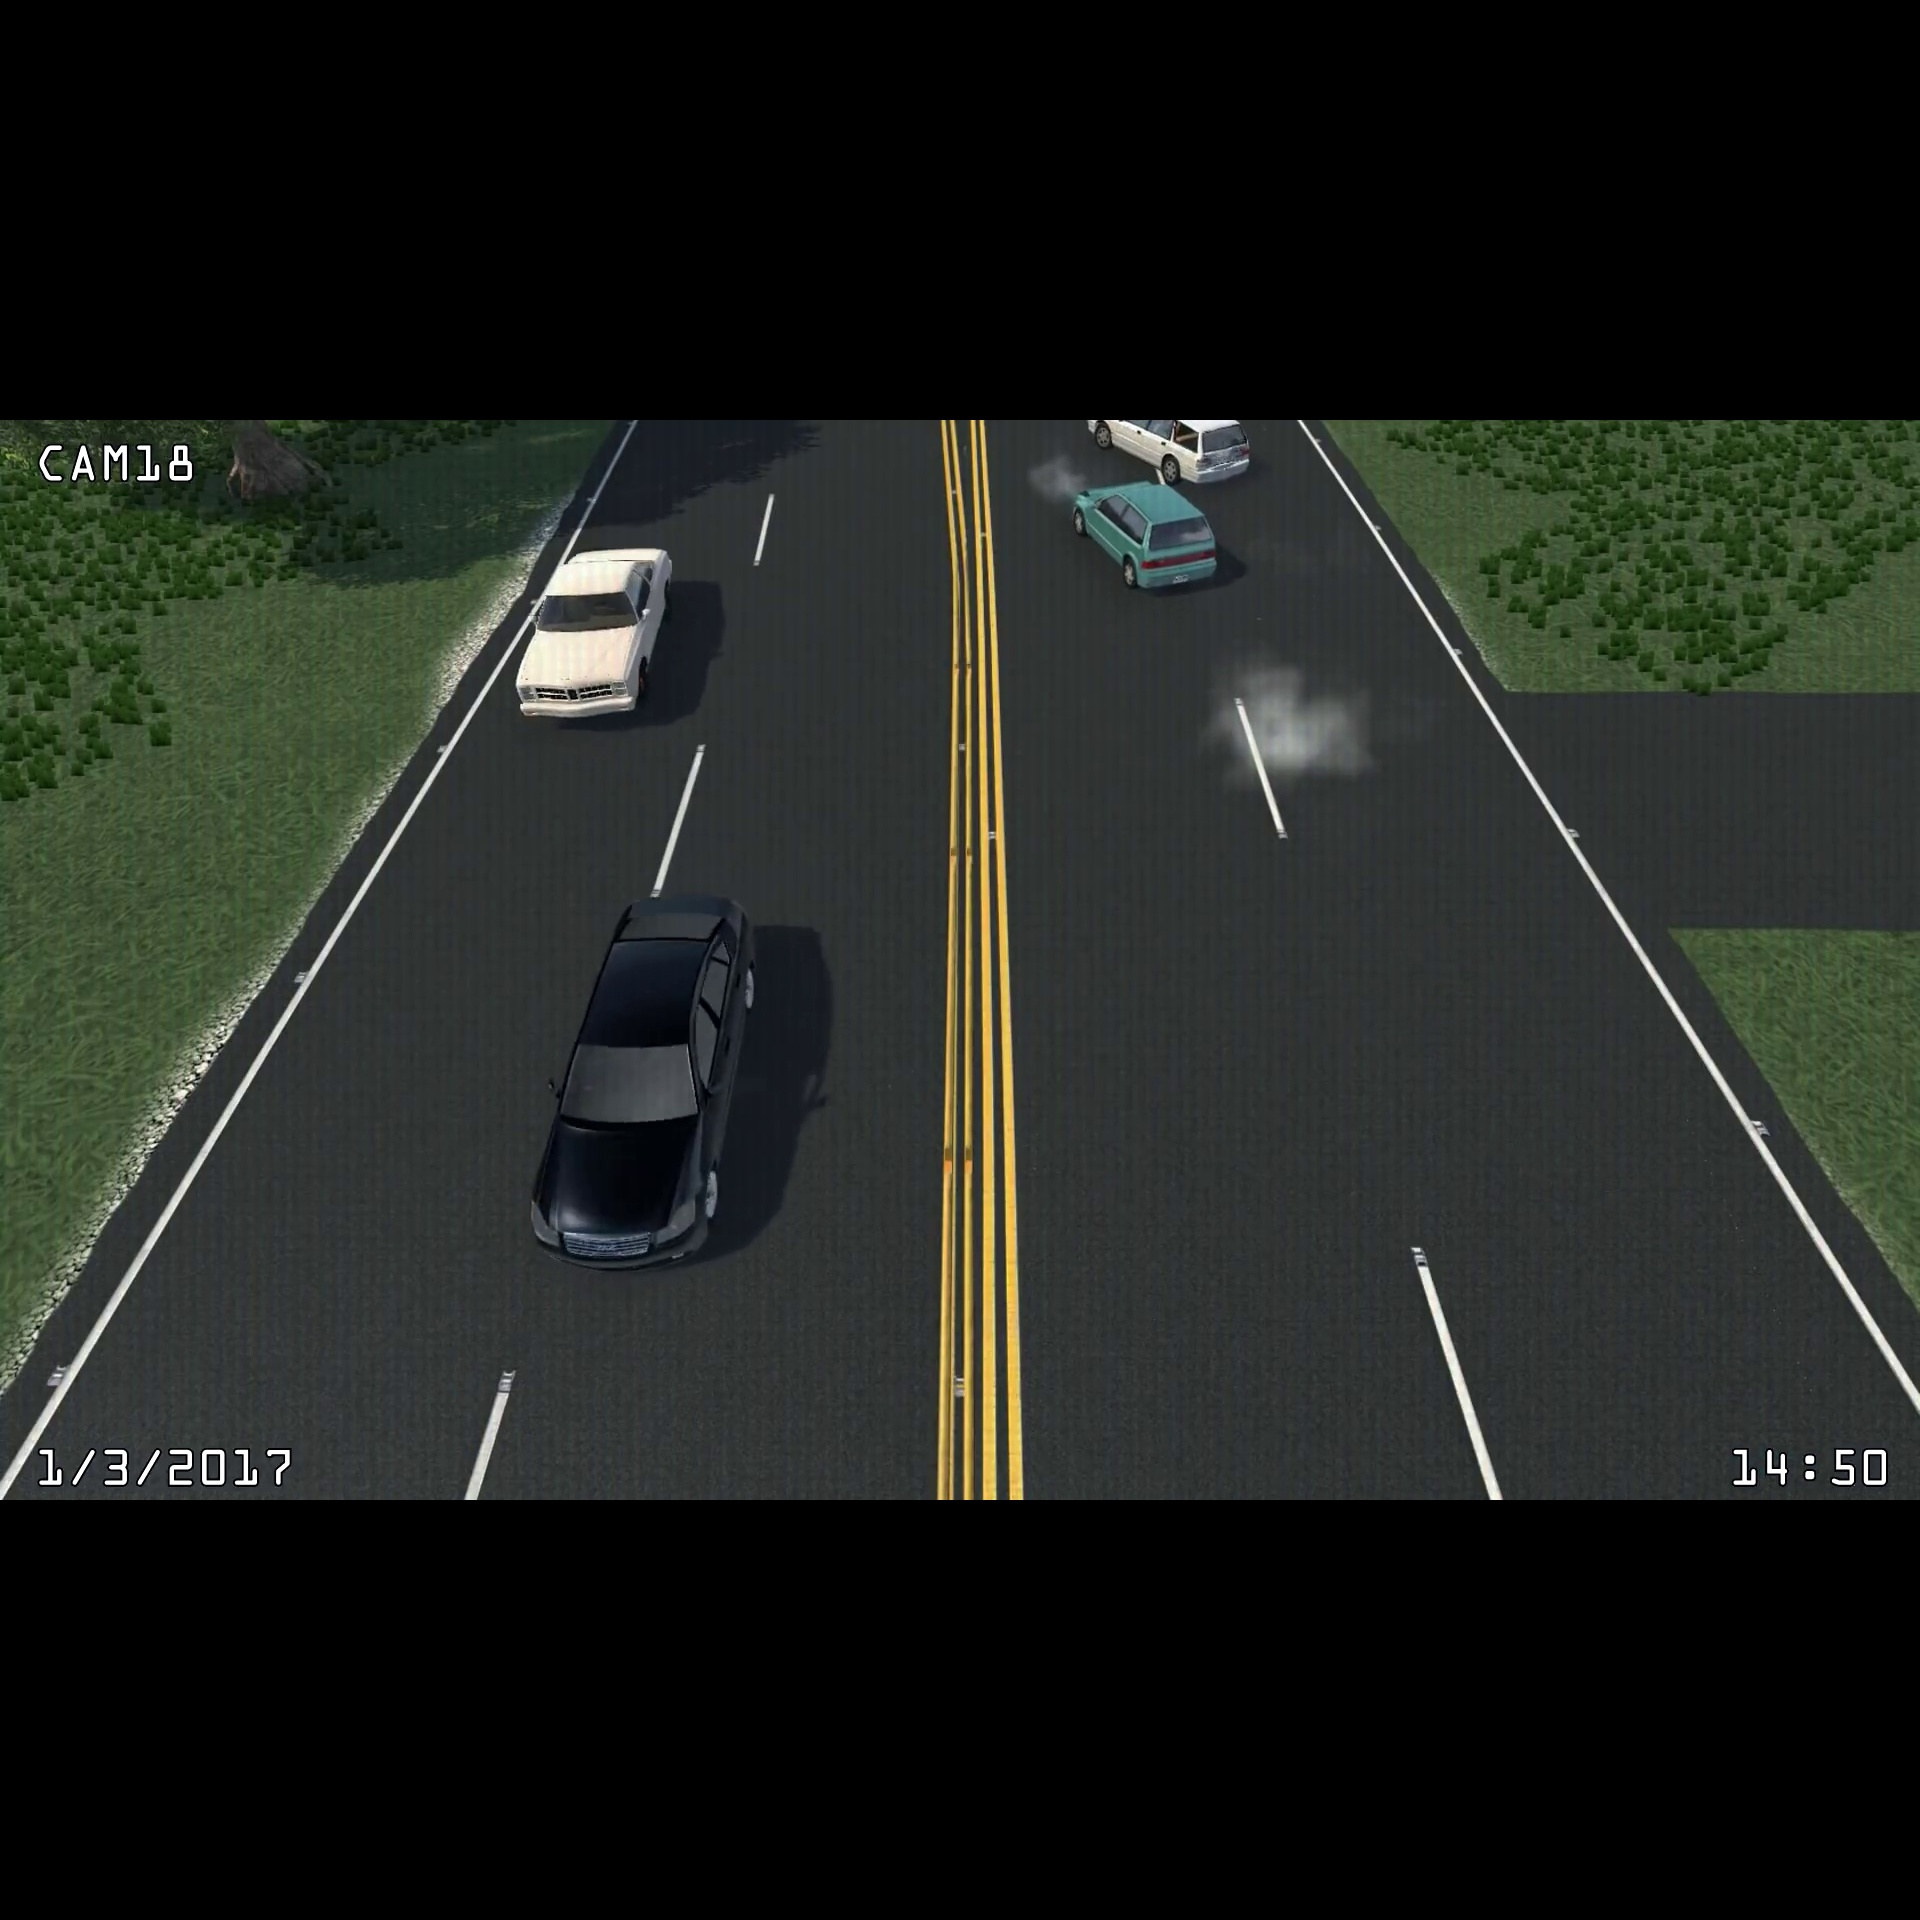vehicle: (515, 879, 770, 1284), (506, 536, 689, 730), (1069, 476, 1224, 600), (1076, 418, 1259, 492)
